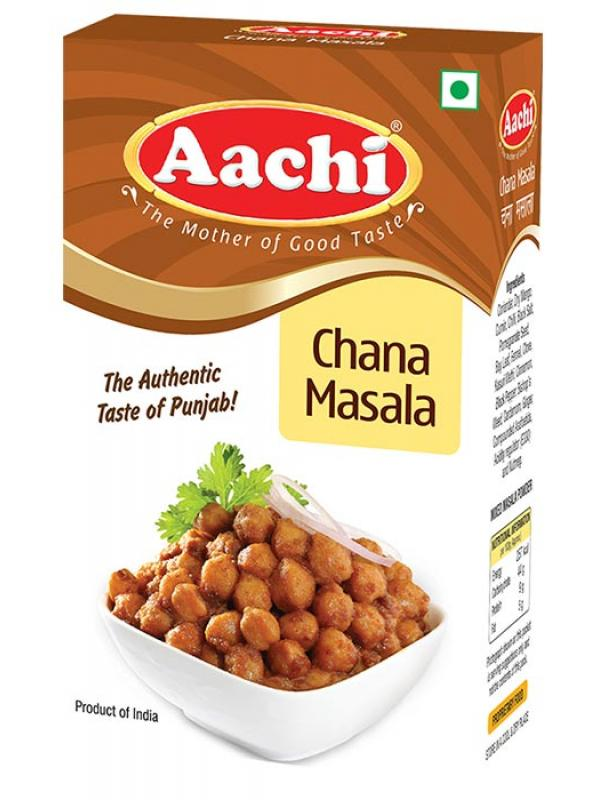VEG: (437, 68, 480, 112)
